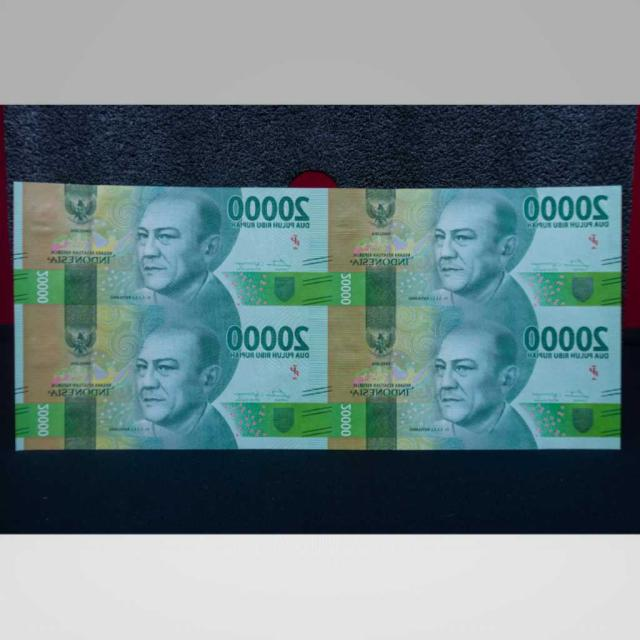dua puluh ribu rupiah: (12, 310, 328, 449), (329, 308, 622, 450), (328, 185, 626, 308), (17, 189, 326, 307)
